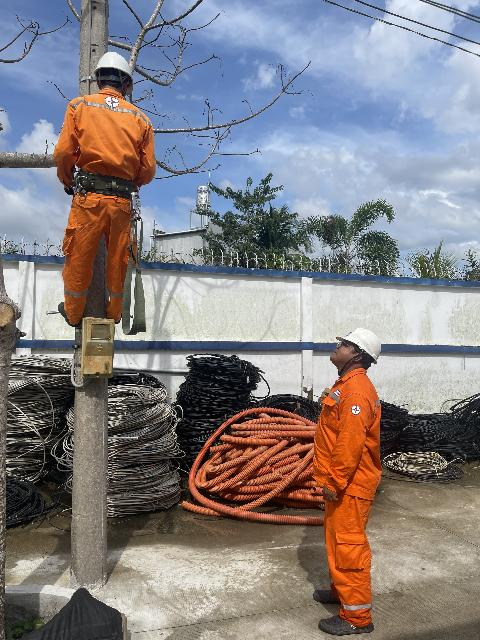harness: (72, 163, 145, 214)
helmet: (338, 320, 390, 367), (93, 49, 141, 98)
shoes: (307, 602, 383, 640), (308, 581, 359, 609), (48, 297, 80, 331)
